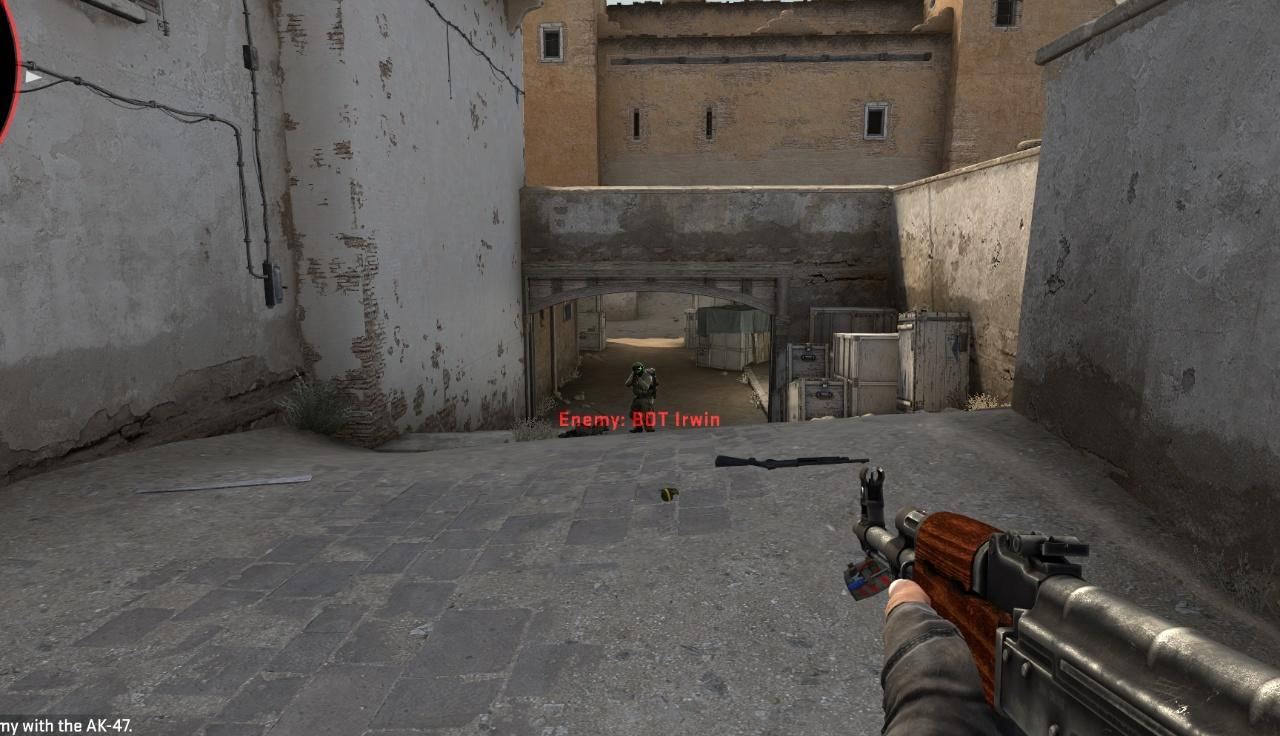ct: (629, 362, 655, 431)
cthead: (632, 362, 643, 375)
rifle: (852, 466, 1280, 736)
